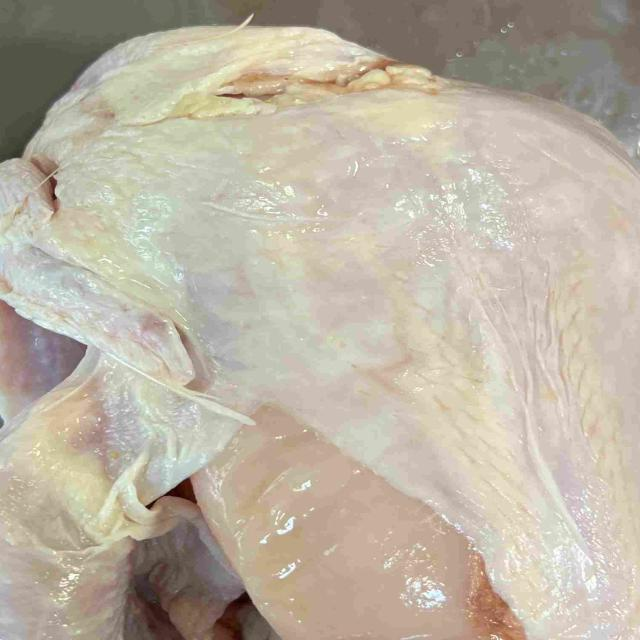breast: (64, 92, 640, 640)
leg: (0, 385, 140, 640)
wing: (0, 155, 183, 412)
